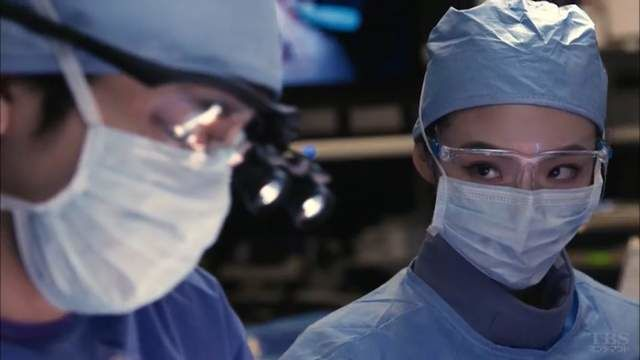mask: (430, 173, 604, 290)
